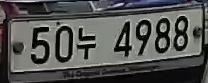0: (52, 24, 74, 62)
4: (111, 19, 135, 59)
5: (27, 25, 53, 65)
8: (172, 14, 189, 54), (154, 16, 171, 53)
9: (134, 18, 154, 56)
누: (74, 21, 98, 61)
